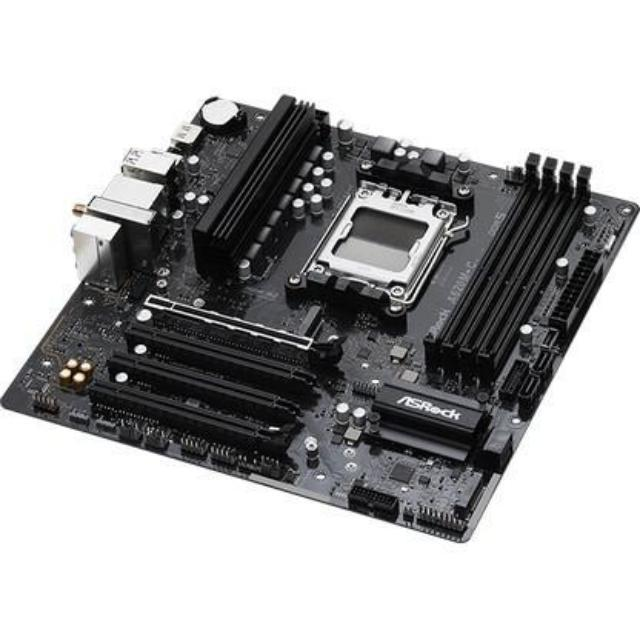Mainboard: (5, 89, 640, 546)
